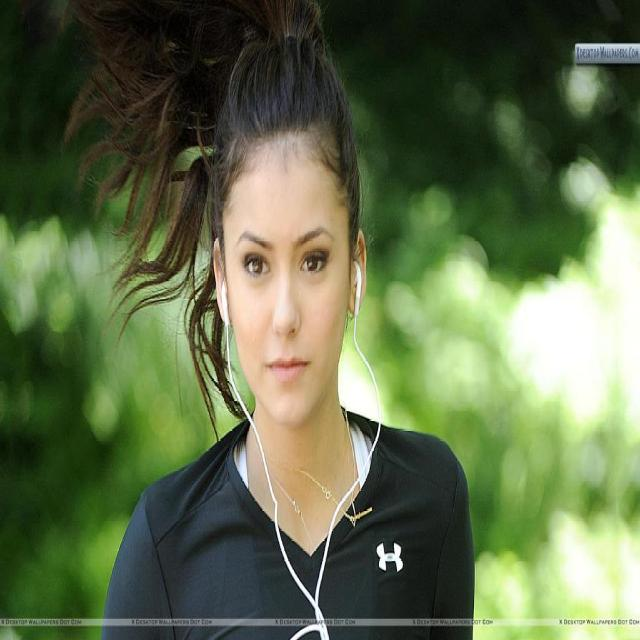Face: (209, 140, 366, 445)
